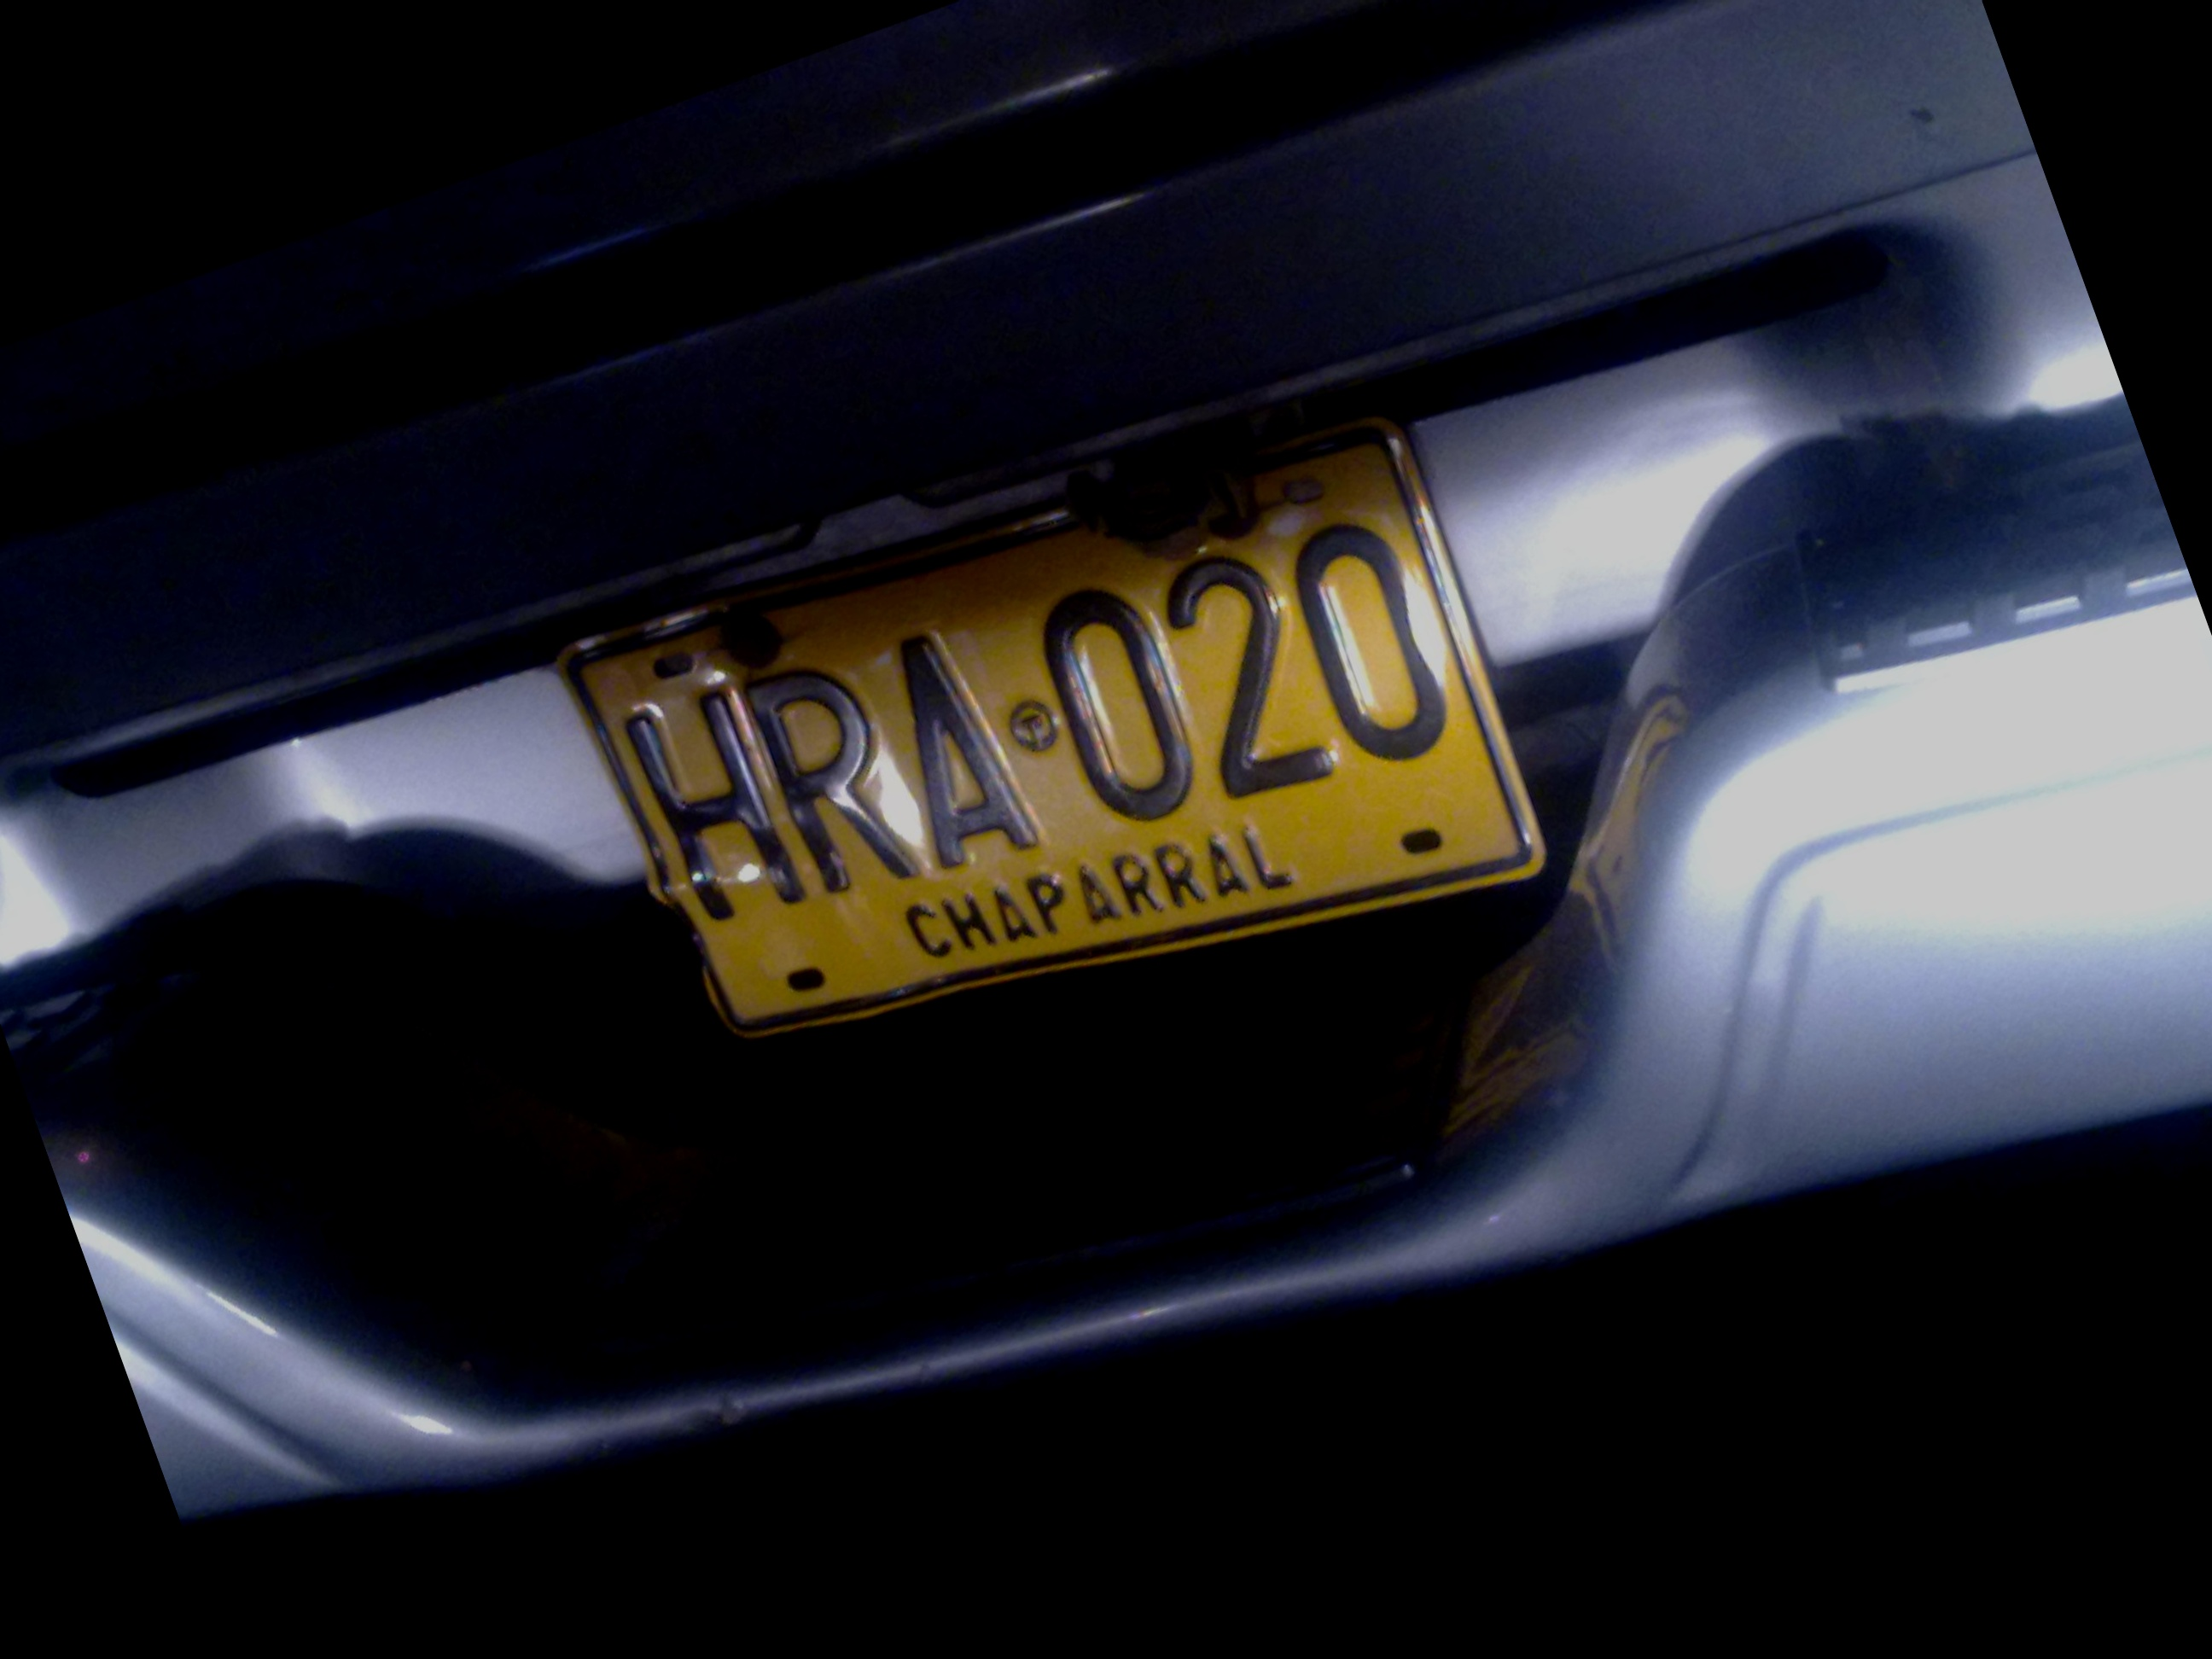placas: (538, 341, 1573, 1179)
